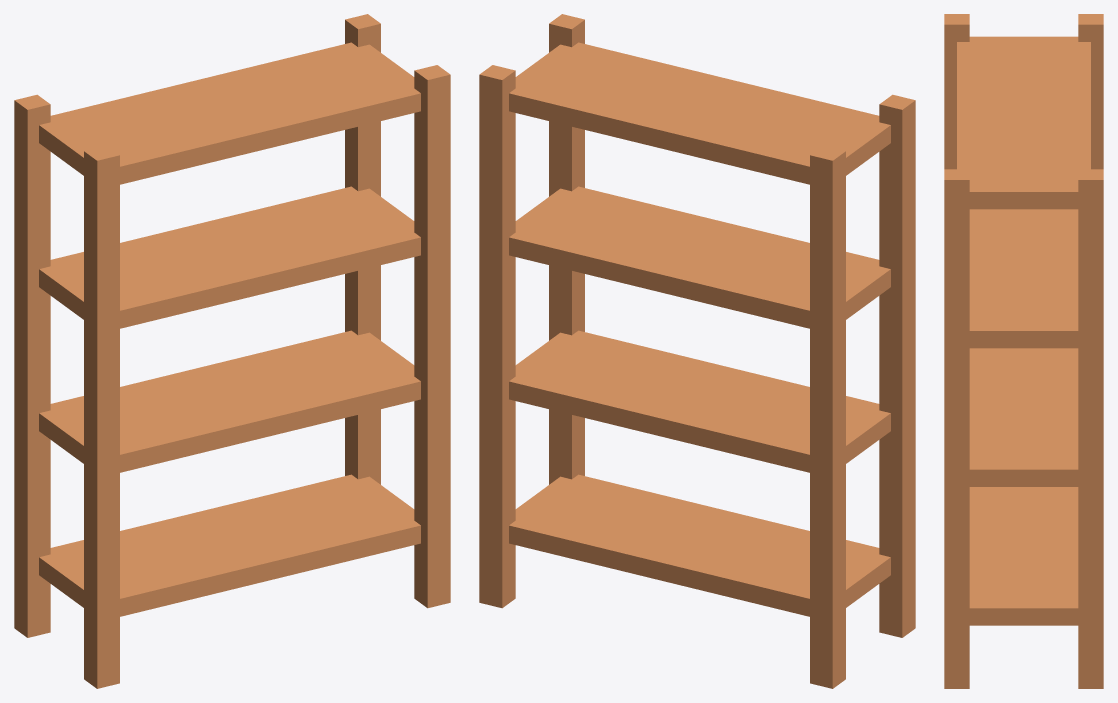
The model's file is regal.fbx.
3 renders of one model, left to right at view 1: azimuth 30°, elevation 25°; view 2: azimuth 150°, elevation 25°; view 3: azimuth 270°, elevation 25°, orthographic. The views are drawn at different scales.
Parts seen in each view (by area): view 1: bookcaseOpen; view 2: bookcaseOpen; view 3: bookcaseOpen.
Part boxes in pixels (x1,y1,x2,y2): bookcaseOpen: (14, 14, 450, 688); bookcaseOpen: (479, 14, 915, 688); bookcaseOpen: (944, 14, 1103, 688).
Bounding box in the file's own units: 61.63 × 88 × 25.
